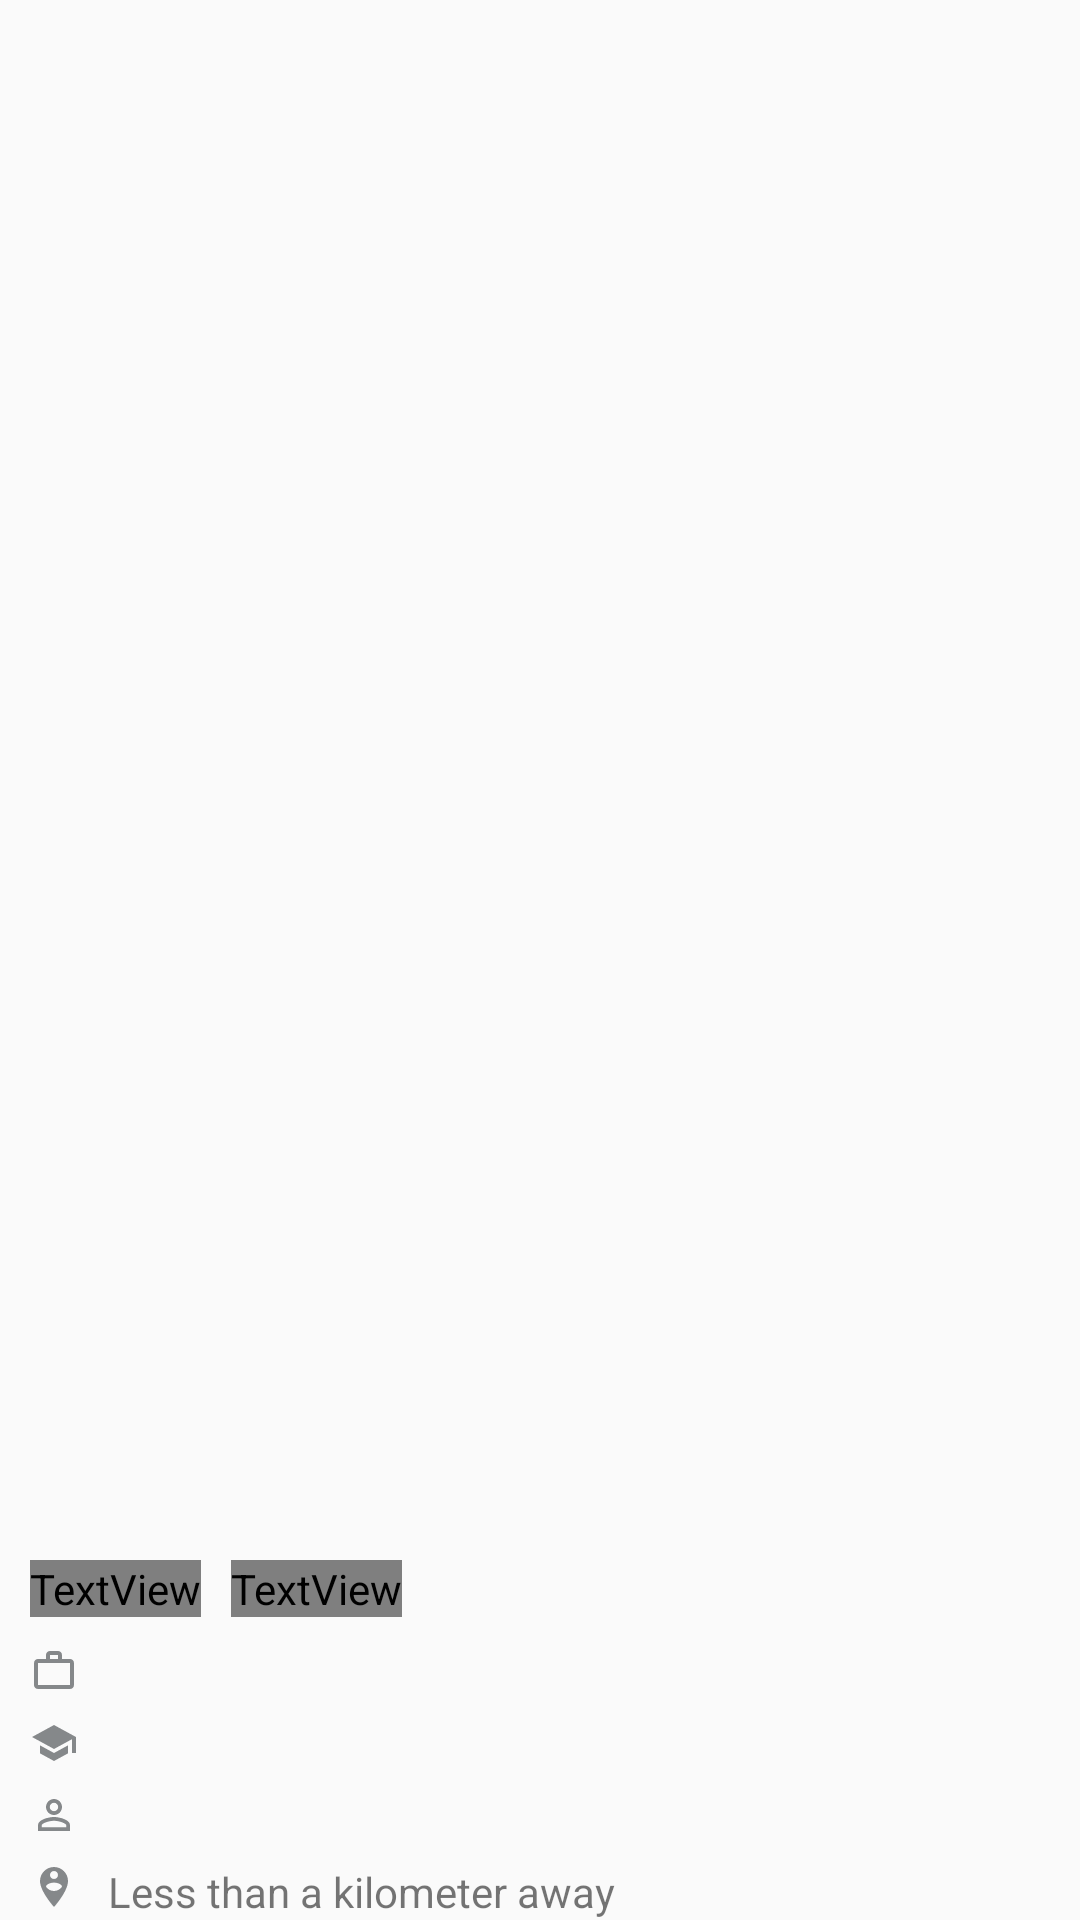

Icon click points for this 1080*1920 phone screenshot, format point (x, y):
education: point (54, 1743)
person: point (54, 1815)
person pin circle: point (54, 1887)
work: point (54, 1670)
